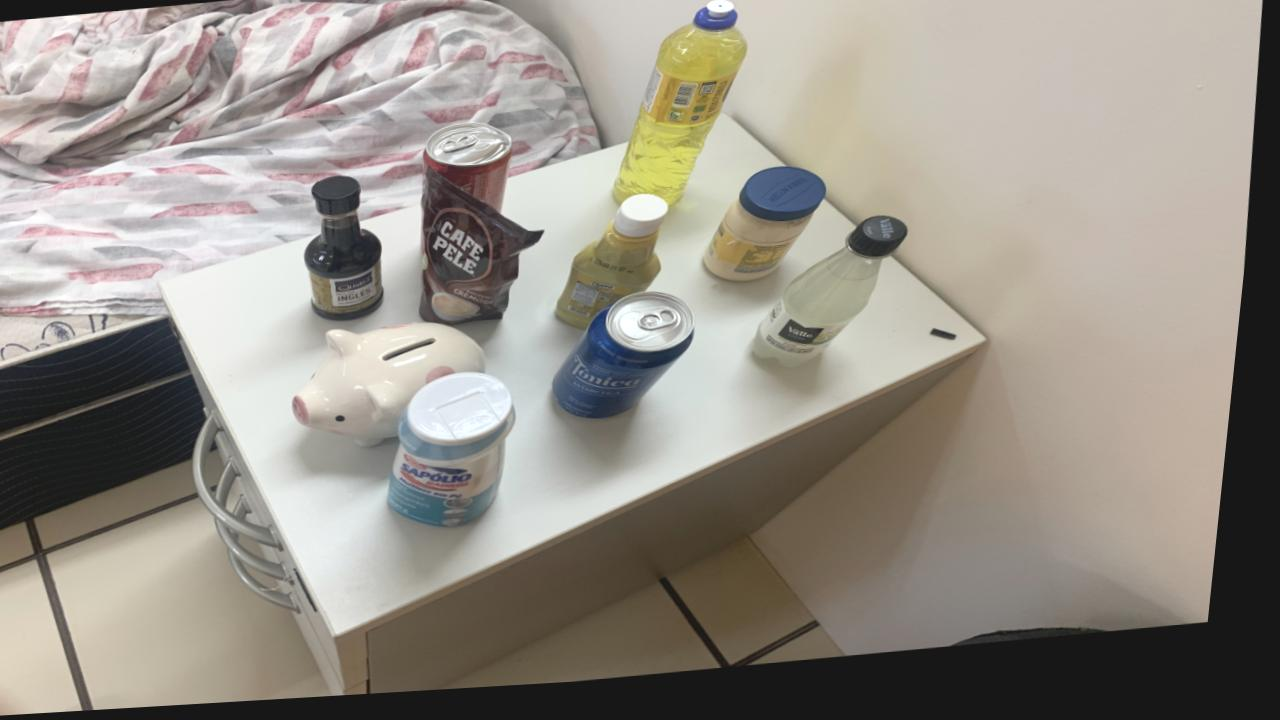Cleaner-Cleanup_Items: (400, 378, 524, 534)
Coffee-Pantry_Items: (426, 173, 550, 331)
Coke-Drinks: (426, 128, 517, 218)
Detergent-Cleanup_Items: (619, 10, 748, 211)
English_Sauce-Pantry_Items: (310, 180, 391, 325)
Mayonnaise-Pantry_Items: (711, 176, 831, 291)
Mustard-Pantry_Items: (564, 202, 673, 336)
Pig_Safe-Miscellaneous: (302, 328, 494, 452)
Soda-Drinks: (762, 226, 914, 377)
Tonic-Drinks: (562, 300, 703, 426)
